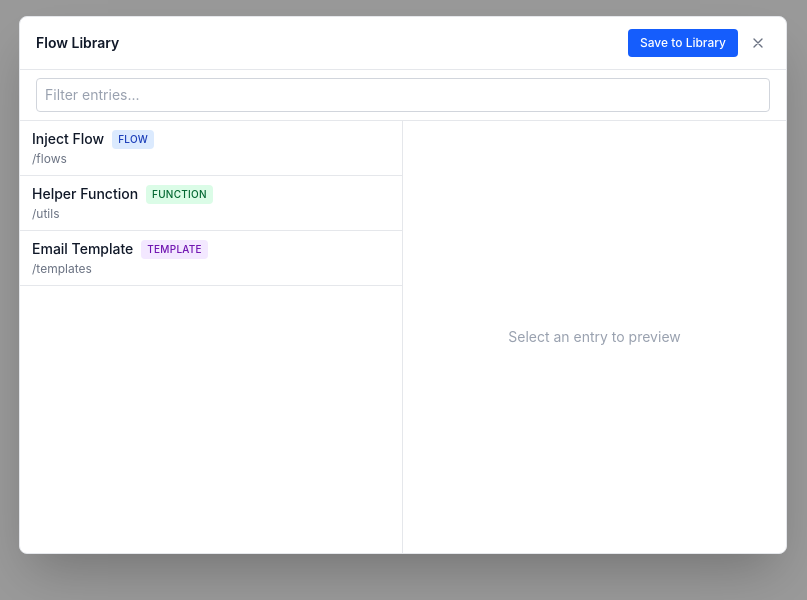
Test: LibraryDialog › rename › renames entry on confirm
Click the button "Inject Flow flow /flows": coordinates (68, 139) x1=20 y1=121 x2=402 y2=176
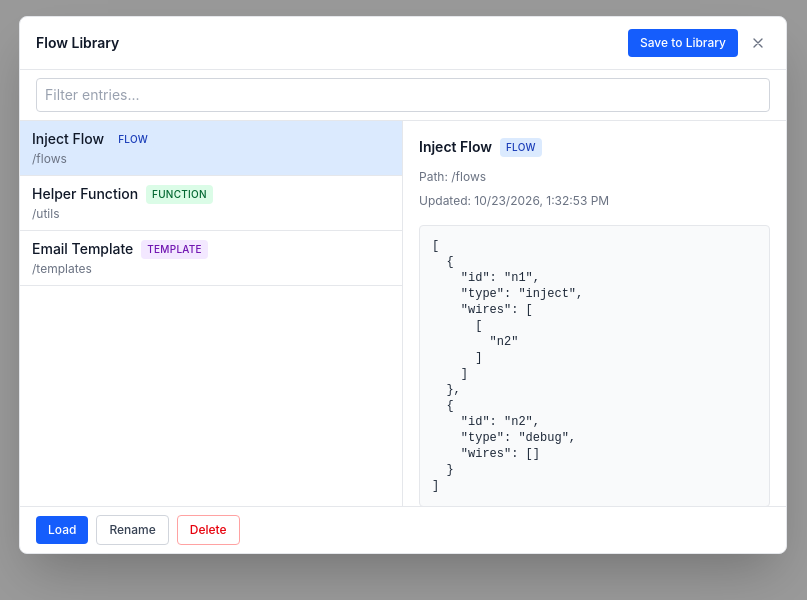
Click the button with test id "library-rename-button": coordinates (133, 530) x1=96 y1=515 x2=169 y2=545
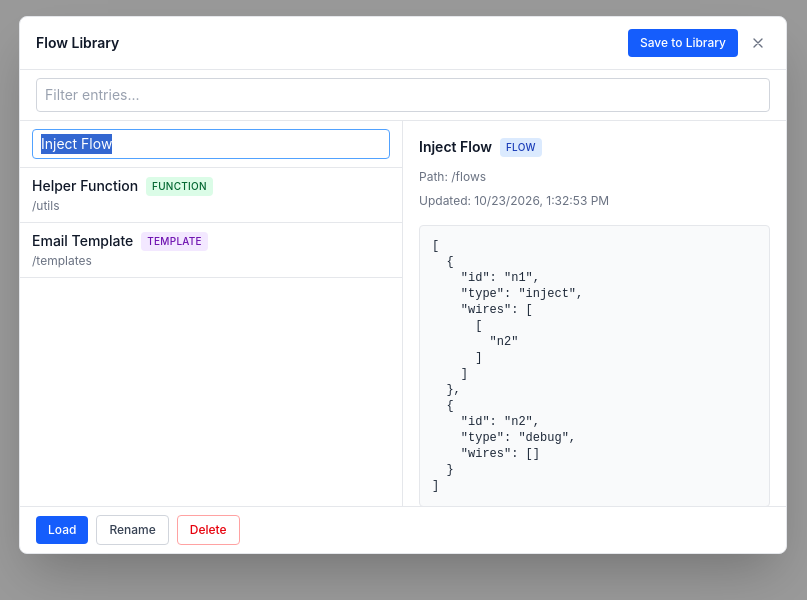
Replace the text in the field with test id "library-rename-input" with "Renamed Flow": coordinates (211, 144) x1=32 y1=129 x2=390 y2=159
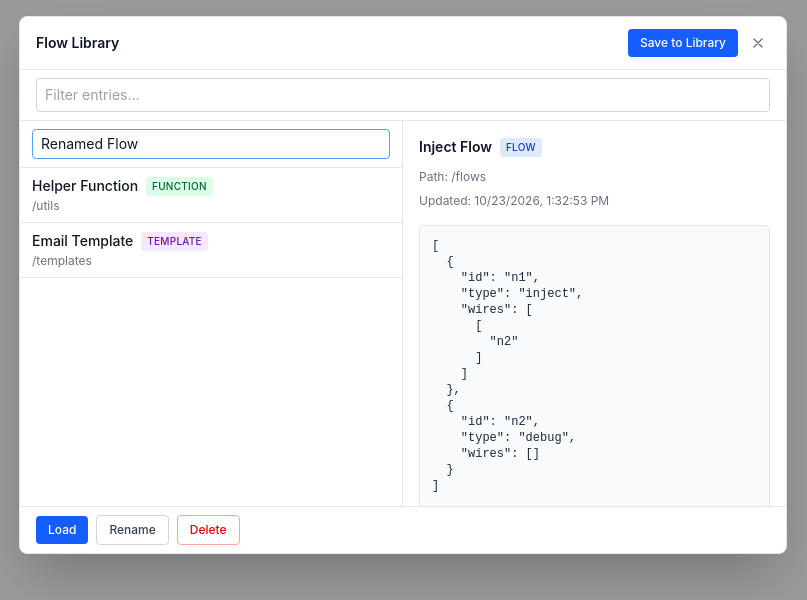
Press Enter in the field with test id "library-rename-input", box x1=32 y1=129 x2=390 y2=159
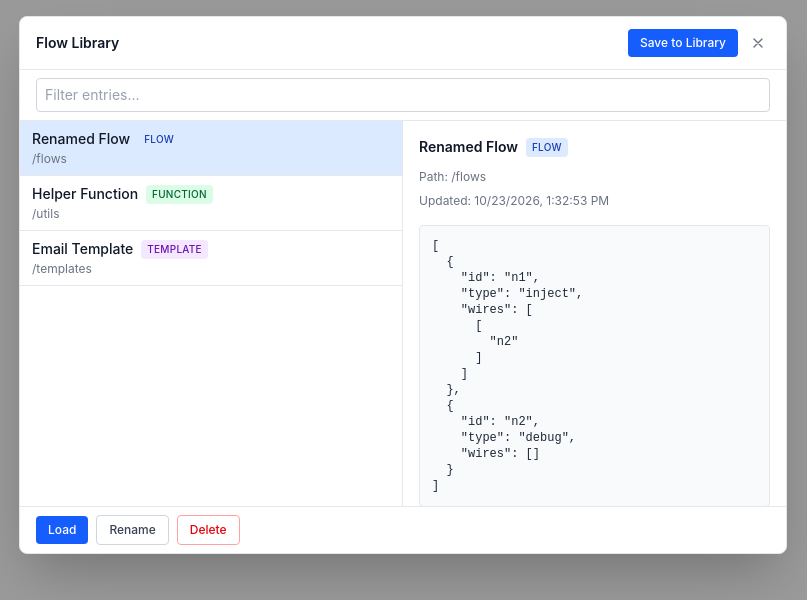
Expected: the text "Renamed Flow" is shown, x1=32 y1=129 x2=130 y2=149
